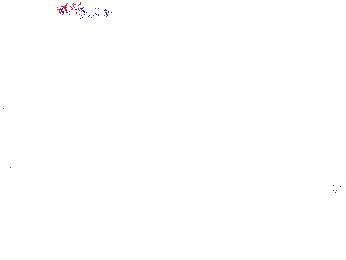X-ray fish: (216, 177, 254, 209)
glassfish: (295, 179, 346, 211)
red belly glassfish: (56, 3, 108, 19)
